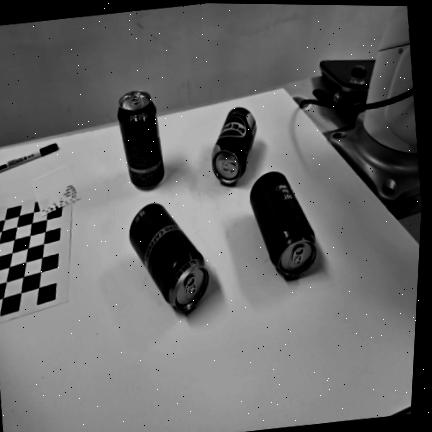can_coke_decaf: (129, 203, 207, 310)
can_coke_zero: (249, 171, 316, 277)
can_pepsi: (118, 90, 164, 187)
can_pepsi_zero: (211, 107, 256, 183)
